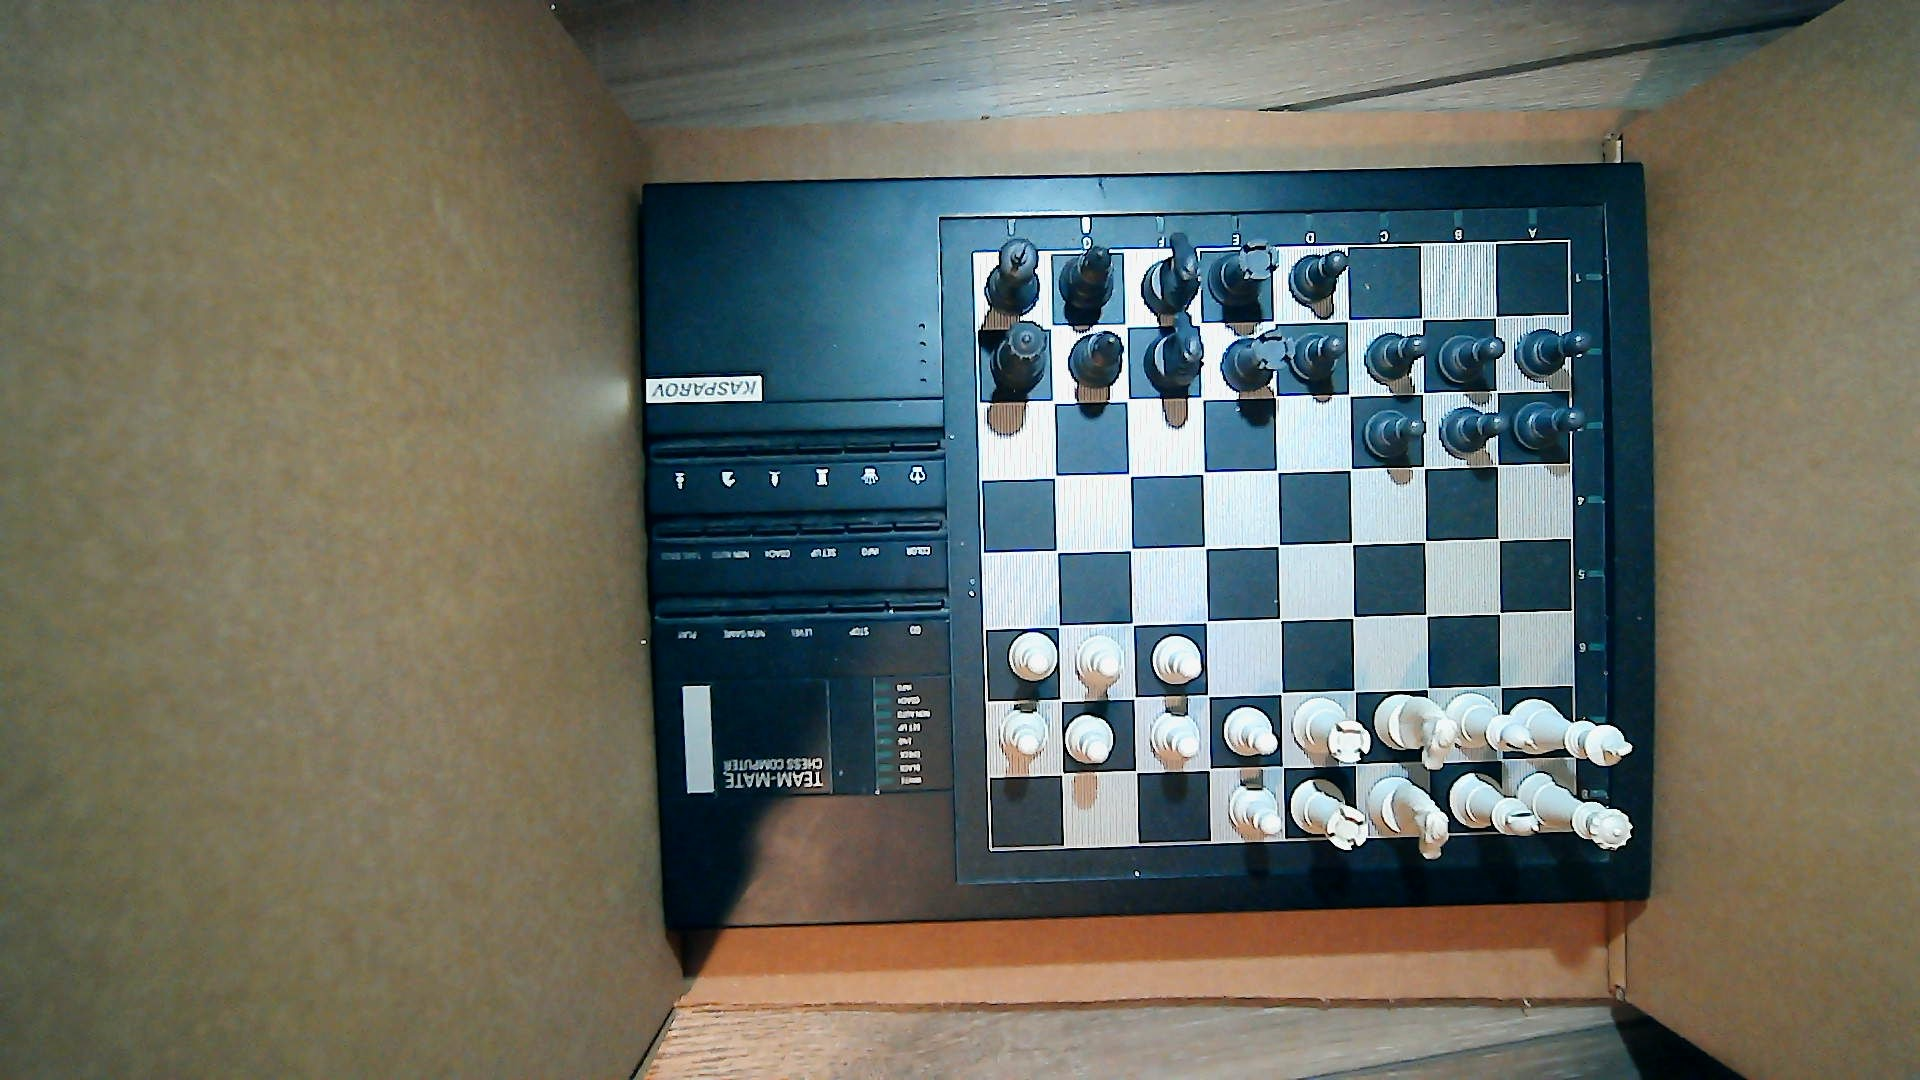bbishop: (1058, 244, 1117, 313), (1065, 328, 1127, 393)
bking: (982, 236, 1039, 315)
bknight: (1143, 309, 1205, 396), (1139, 231, 1200, 315)
bpawn: (1514, 326, 1593, 378), (1513, 400, 1589, 454), (1358, 406, 1427, 465), (1436, 404, 1509, 458), (1436, 334, 1509, 388), (1362, 328, 1427, 386), (1288, 251, 1353, 307), (1290, 328, 1346, 384)
bqueen: (986, 319, 1052, 396)
brook: (1205, 236, 1280, 309), (1221, 326, 1296, 392)
wbishop: (1449, 770, 1542, 836), (1447, 690, 1535, 752)
wknight: (1510, 696, 1633, 770), (1367, 775, 1448, 860), (1373, 694, 1460, 771)
wpawn: (1224, 781, 1283, 840), (1146, 708, 1204, 764), (1221, 705, 1279, 758), (1006, 632, 1060, 684), (1073, 634, 1127, 687), (1063, 713, 1116, 766), (1151, 634, 1203, 687), (998, 709, 1051, 761)
wqueen: (1515, 767, 1633, 849)
wrook: (1290, 775, 1371, 853), (1290, 695, 1371, 764)
